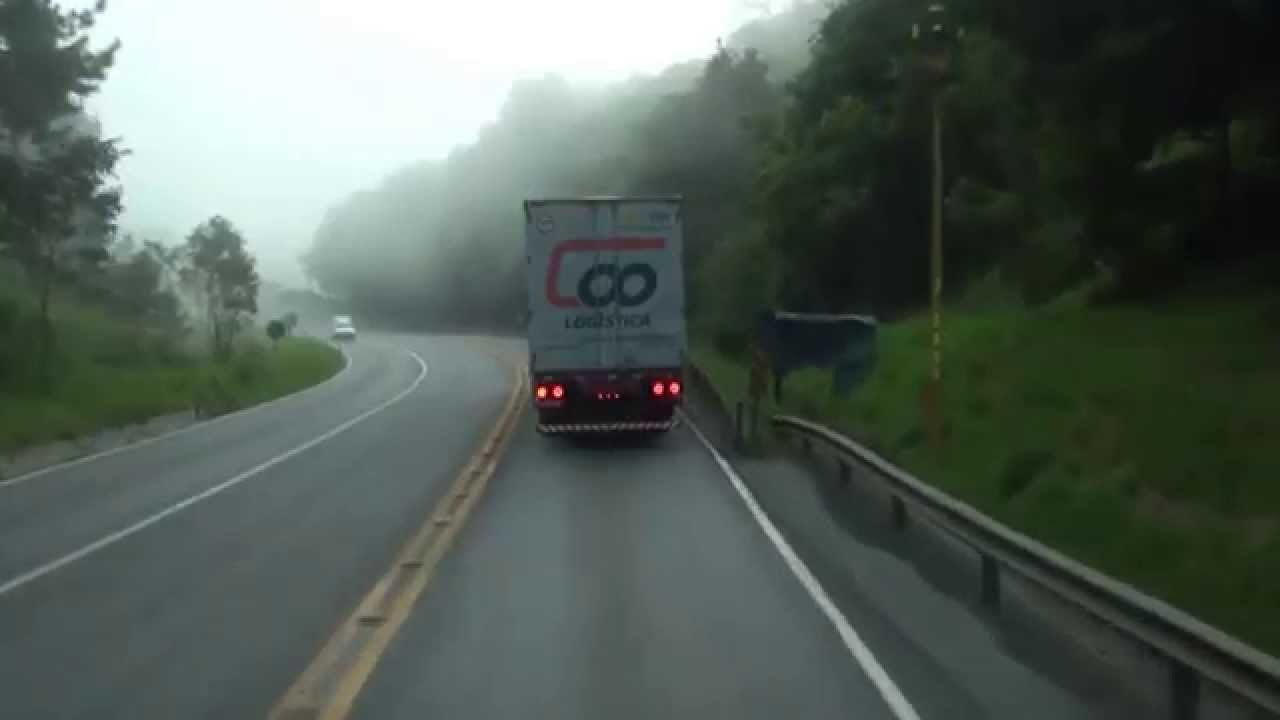truck: (517, 192, 692, 443)
